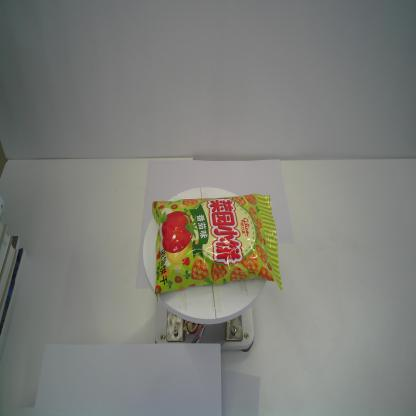Puffed Food: (151, 192, 283, 303)
